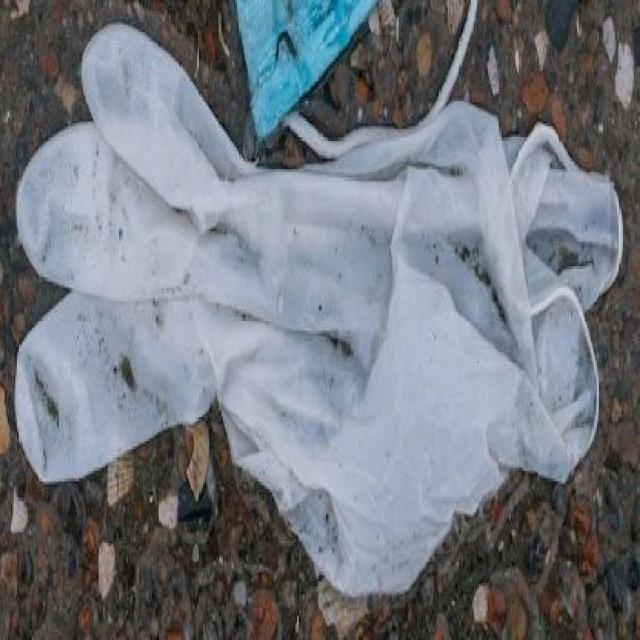glove: (12, 16, 622, 607)
